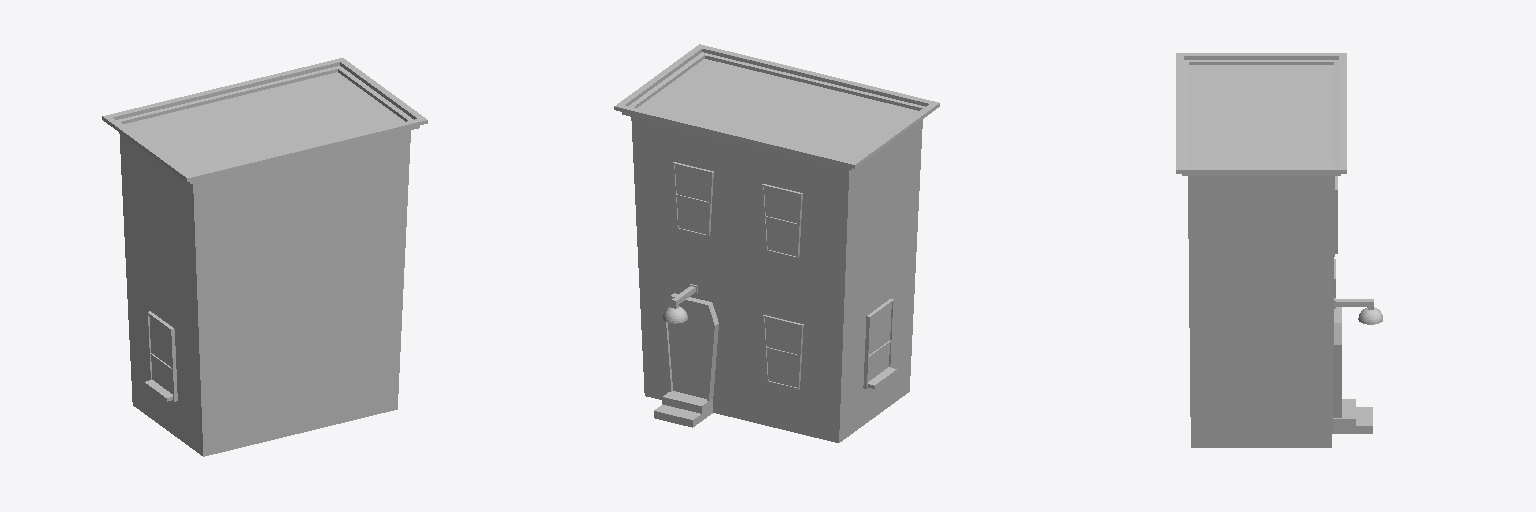
Rendered from Building 001.obj.
3 views of the same model, side by side, from view 1: azimuth 30°, elevation 25°; view 2: azimuth 150°, elevation 25°; view 3: azimuth 270°, elevation 25° (orthographic).
Parts seen in each view (by area): view 1: Bulding_001_Cube.007; view 2: Bulding_001_Cube.007; view 3: Bulding_001_Cube.007.
Part boxes in pixels (bbox=[...]): Bulding_001_Cube.007: bbox=[102, 58, 427, 456]; Bulding_001_Cube.007: bbox=[614, 44, 939, 442]; Bulding_001_Cube.007: bbox=[1176, 53, 1382, 447].
Bounding box in the file's own units: 3.93 × 4.51 × 2.93.